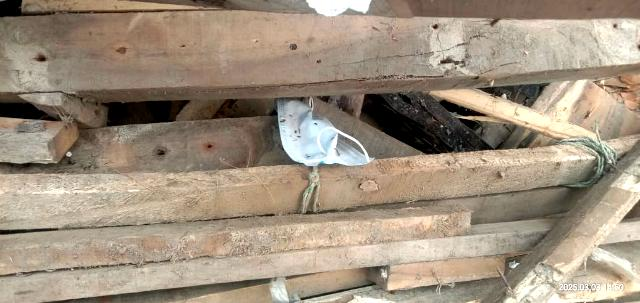mask: (272, 90, 371, 172)
